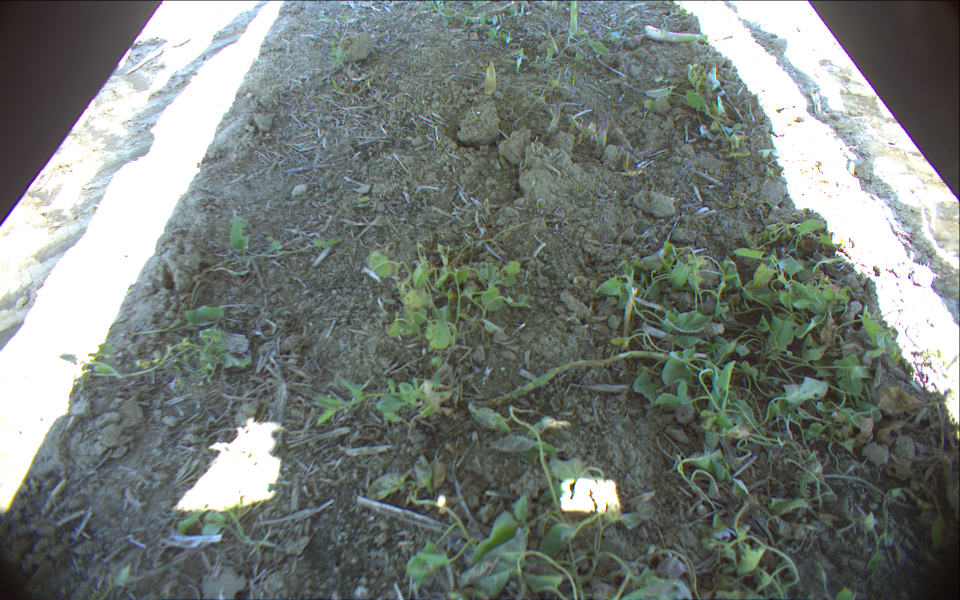aspa: (563, 1, 581, 40)
